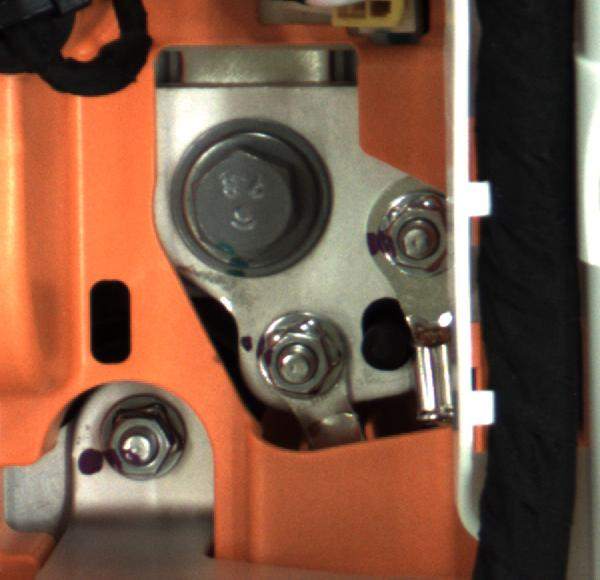nut_b: (177, 137, 319, 265)
screw_s: (247, 309, 346, 406), (100, 393, 188, 487), (372, 182, 452, 282)
